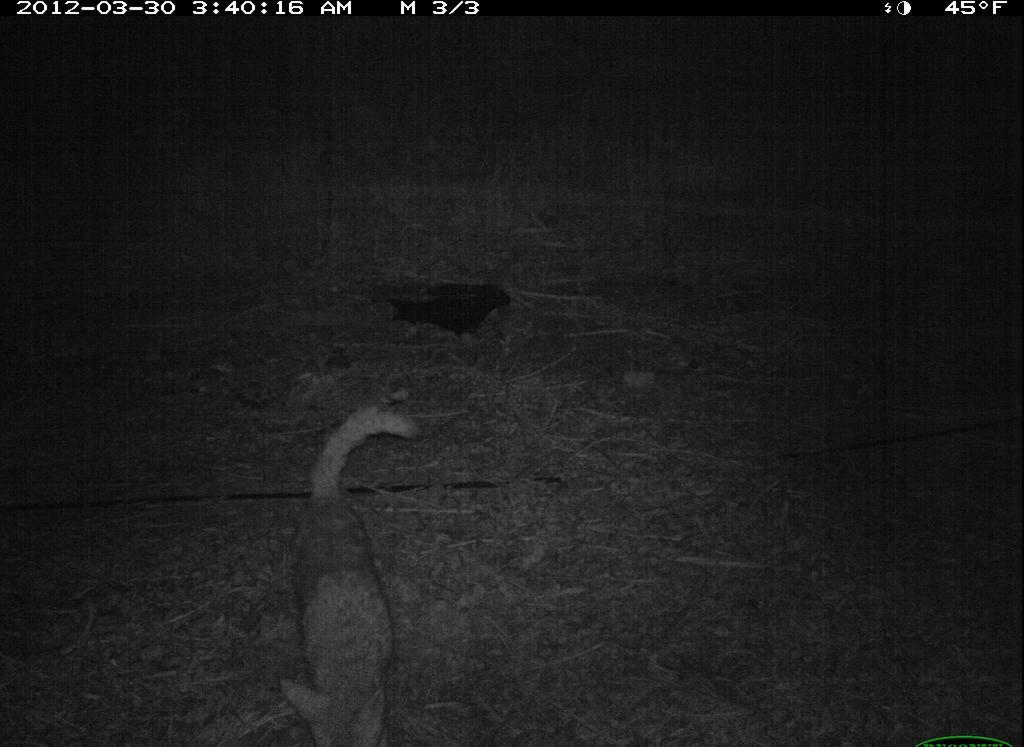coyote: (265, 400, 438, 747)
